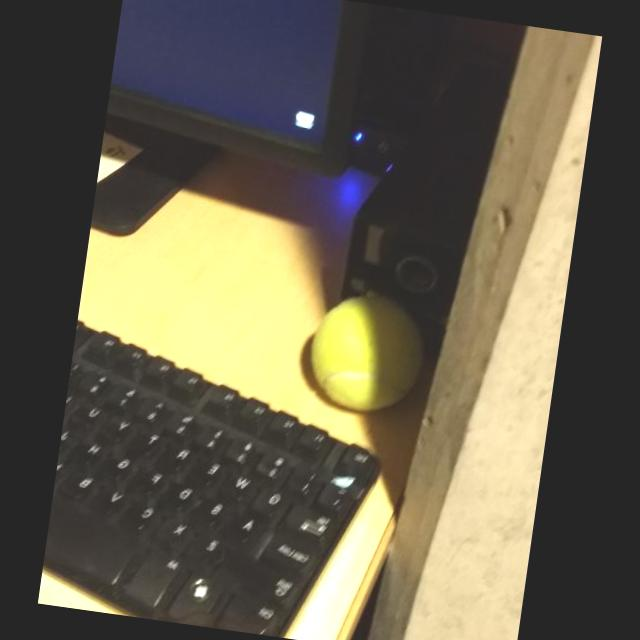Tennis Ball: (296, 287, 438, 424)
